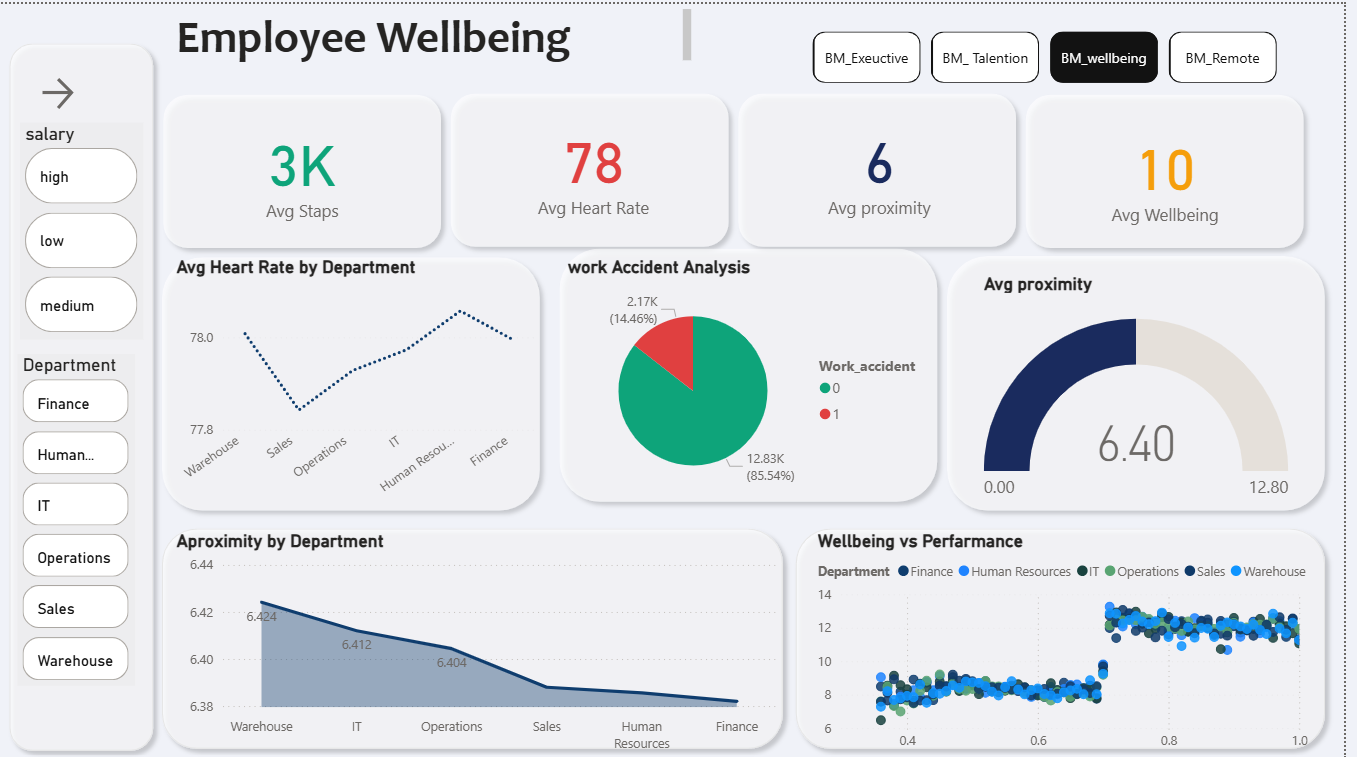

What the dashboard file says about the page in this screenshot:
{"tool":"powerbi","page":{"name":"Employee Wellbeing","canvas":[1280,720],"ordinal":2},"visuals":[{"type":"shape","box":[0,28.8,154.9,691.6],"z":0},{"type":"textbox","box":[162.8,0,500,60.5],"z":1000},{"type":"shape","box":[145.9,76.9,282.7,163.9],"z":2000},{"type":"shape","box":[748.8,490.7,522.1,227.9],"z":3000},{"type":"bookmarkNavigator","box":[773.3,26.4,444.3,49.2],"z":4000},{"type":"advancedSlicerVisual","fields":{"Values":["HR_Engagement_Sat_Sales_Updated.Department"]},"box":[16.8,333.8,111.7,315.8],"z":5000},{"type":"advancedSlicerVisual","fields":{"Values":["HR_Engagement_Sat_Sales_Updated.salary"]},"box":[19.2,112.9,117.7,206.5],"z":6000},{"type":"actionButton","box":[34.8,66,99.7,39.6],"z":7000},{"type":"shape","box":[145.3,232.6,377.9,259.3],"z":8000},{"type":"shape","box":[420.6,75.8,282.7,163.9],"z":9000},{"type":"shape","box":[694.2,75.8,282.7,163.9],"z":10000},{"type":"shape","box":[967.8,76.9,282.7,163.9],"z":11000},{"type":"shape","box":[523.3,223.3,377.9,259.3],"z":12000},{"type":"shape","box":[893,231.4,377.9,260.5],"z":13000},{"type":"shape","box":[145.3,490.7,609.3,227.9],"z":14000},{"type":"card","fields":{"Values":["HR_Engagement_Sat_Sales_Updated.Avg Staps"]},"box":[162.8,100,250,116.3],"z":15000},{"type":"card","fields":{"Values":["HR_Engagement_Sat_Sales_Updated.Avg Heart Rate"]},"box":[459.3,95.3,211.6,120.9],"z":16000},{"type":"card","fields":{"Values":["HR_Engagement_Sat_Sales_Updated.Avg proximity"]},"box":[717.4,88.4,239.5,134.9],"z":17000},{"type":"card","fields":{"Values":["HR_Engagement_Sat_Sales_Updated.Avg Wellbeing"]},"box":[970.9,101.2,276.7,122.1],"z":18000},{"type":"lineChart","fields":{"Category":["HR_Engagement_Sat_Sales_Updated.Department"],"Y":["HR_Engagement_Sat_Sales_Updated.Avg Heart Rate"]},"box":[162.8,240.7,352.3,237.2],"z":19000},{"type":"gauge","fields":{"Y":["HR_Engagement_Sat_Sales_Updated.Avg proximity"]},"box":[932.6,255.8,300,245.3],"z":20000},{"type":"stackedAreaChart","title":"Aproximity by Department","fields":{"Category":["HR_Engagement_Sat_Sales_Updated.Department"],"Y":["HR_Engagement_Sat_Sales_Updated.Avg proximity"]},"box":[162.8,501.2,586,218.6],"z":21000},{"type":"pieChart","title":"work Accident Analysis","fields":{"Y":["CountNonNull(HR_Engagement_Sat_Sales_Updated.ID)"],"Category":["HR_Engagement_Sat_Sales_Updated.Work_accident"]},"box":[536,240.7,357,237.2],"z":22000},{"type":"scatterChart","title":"Wellbeing vs Perfarmance","fields":{"X":["HR_Engagement_Sat_Sales_Updated.last_evaluation"],"Y":["HR_Engagement_Sat_Sales_Updated.Avg Wellbeing"],"Series":["HR_Engagement_Sat_Sales_Updated.Department"]},"box":[773.3,501.2,476.7,218.6],"z":23000}]}

Visuals, with their boxes in screenshot pixels (x1, y1, x2, y2), scaled from the page's 1280x720 canvas onto the 1357x757 screenshot:
shape: (0, 30, 164, 756)
textbox: (173, 0, 703, 64)
shape: (155, 81, 454, 253)
shape: (794, 516, 1347, 756)
bookmarkNavigator: (820, 28, 1291, 79)
advancedSlicerVisual - HR_Engagement_Sat_Sales_Updated.Department: (18, 351, 136, 683)
advancedSlicerVisual - HR_Engagement_Sat_Sales_Updated.salary: (20, 119, 145, 336)
actionButton: (37, 69, 143, 111)
shape: (154, 245, 555, 517)
shape: (446, 80, 746, 252)
shape: (736, 80, 1036, 252)
shape: (1026, 81, 1326, 253)
shape: (555, 235, 955, 507)
shape: (947, 243, 1347, 517)
shape: (154, 516, 800, 756)
card - HR_Engagement_Sat_Sales_Updated.Avg Staps: (173, 105, 438, 227)
card - HR_Engagement_Sat_Sales_Updated.Avg Heart Rate: (487, 100, 711, 227)
card - HR_Engagement_Sat_Sales_Updated.Avg proximity: (761, 93, 1014, 235)
card - HR_Engagement_Sat_Sales_Updated.Avg Wellbeing: (1029, 106, 1323, 235)
lineChart - HR_Engagement_Sat_Sales_Updated.Department x HR_Engagement_Sat_Sales_Updated.Avg Heart Rate: (173, 253, 546, 502)
gauge - HR_Engagement_Sat_Sales_Updated.Avg proximity: (989, 269, 1307, 527)
"Aproximity by Department" stackedAreaChart: (173, 527, 794, 756)
"work Accident Analysis" pieChart: (568, 253, 947, 502)
"Wellbeing vs Perfarmance" scatterChart: (820, 527, 1325, 756)
